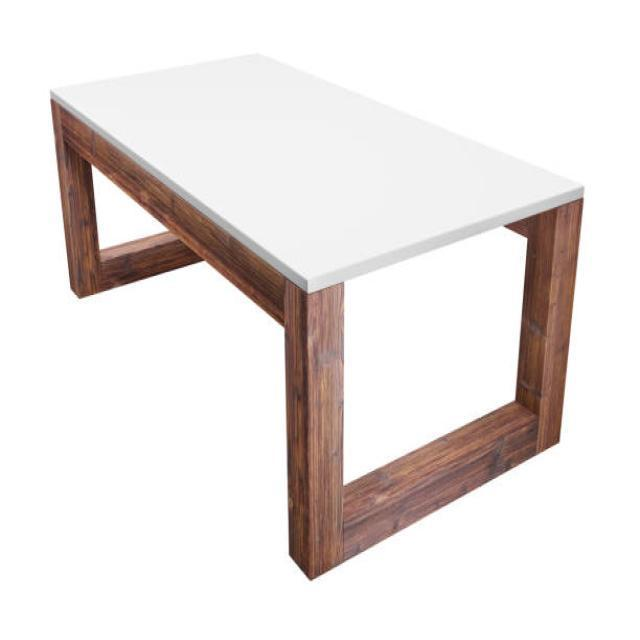table: (48, 48, 585, 580)
